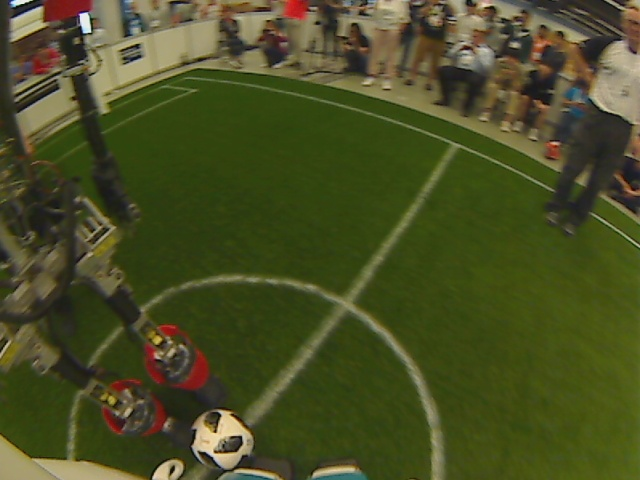ball: (187, 409, 255, 473)
